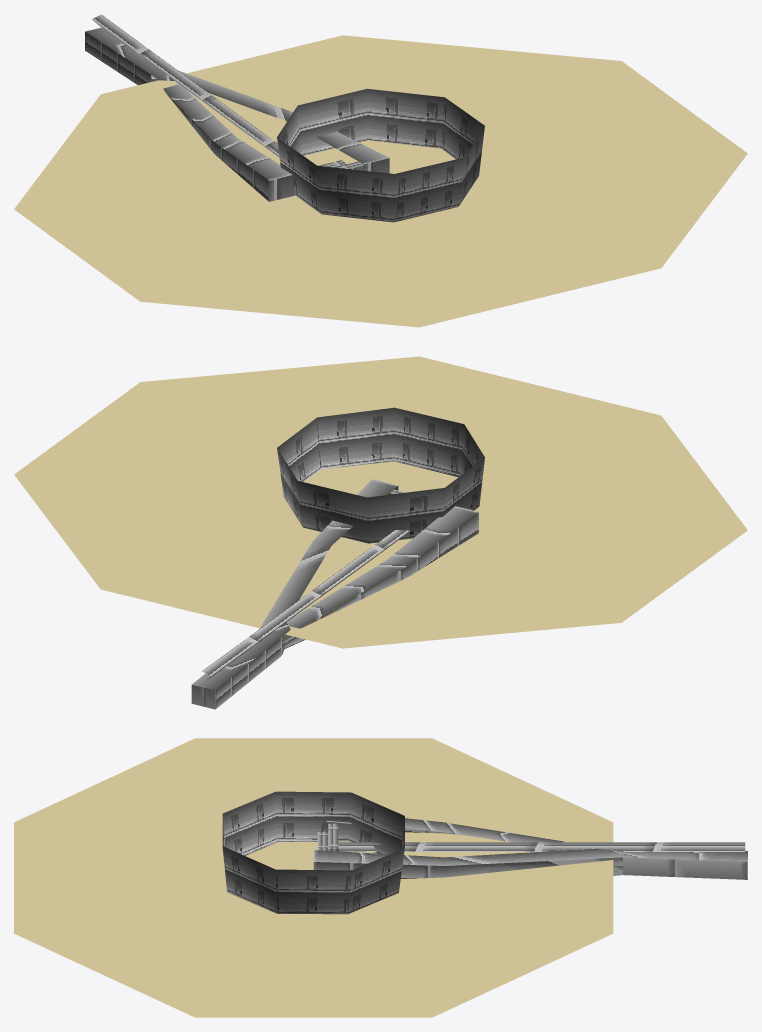
The model's file is 2773item2773.gltf.
3 views of the same model, one above another, from view 1: azimuth 30°, elevation 25°; view 2: azimuth 150°, elevation 25°; view 3: azimuth 270°, elevation 25° (orthographic). The views are drawn at different scales.
Visible parts, largest first — view 1: 2773item2773; view 2: 2773item2773; view 3: 2773item2773.
Boxes of the visible parts, bbox=[...] form: 2773item2773: bbox=[14, 14, 747, 327]; 2773item2773: bbox=[14, 356, 747, 709]; 2773item2773: bbox=[14, 738, 747, 1017].
Size of the model in its own units: 0.6348 by 0.1025 by 0.7056.
Materials: 3 (3 with a texture image).
